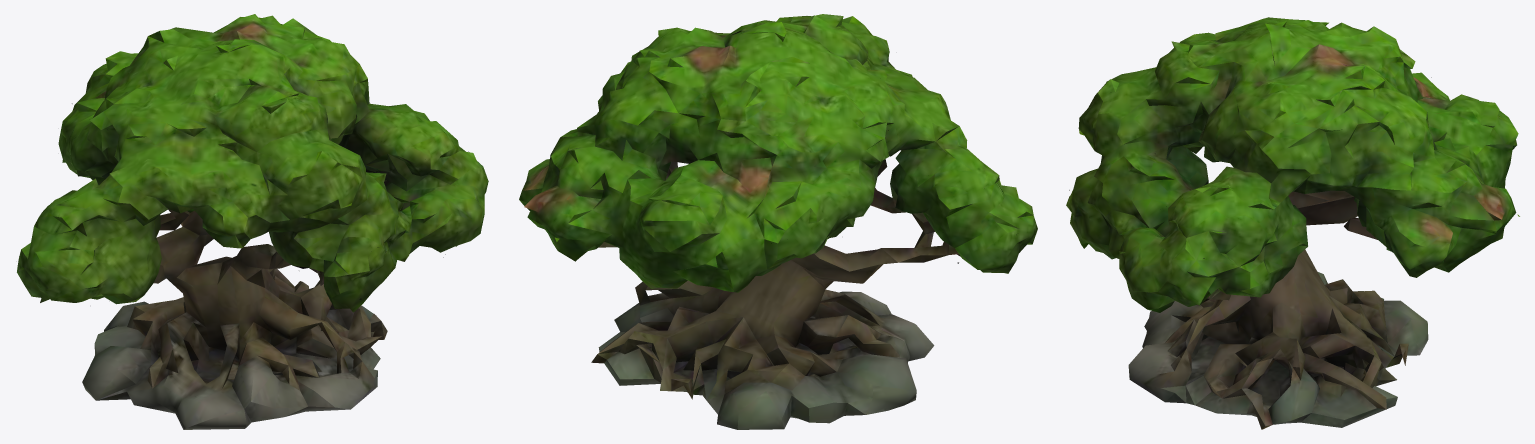
The model's file is tree_old_rocks_lod0.glb.
3 views of the same model, side by side, from view 1: azimuth 30°, elevation 25°; view 2: azimuth 150°, elevation 25°; view 3: azimuth 270°, elevation 25° (orthographic). The views are drawn at different scales.
Parts seen in each view (by area): view 1: tree_old_rocks_lod0; view 2: tree_old_rocks_lod0; view 3: tree_old_rocks_lod0.
Boxes of the visible parts, x1=… form: tree_old_rocks_lod0: x1=17, y1=14, x2=488, y2=429; tree_old_rocks_lod0: x1=519, y1=14, x2=1037, y2=429; tree_old_rocks_lod0: x1=1066, y1=17, x2=1519, y2=429.
Bounding box in the file's own units: 10.97 × 7.94 × 9.67.
Materials: 1 (1 with a texture image).
